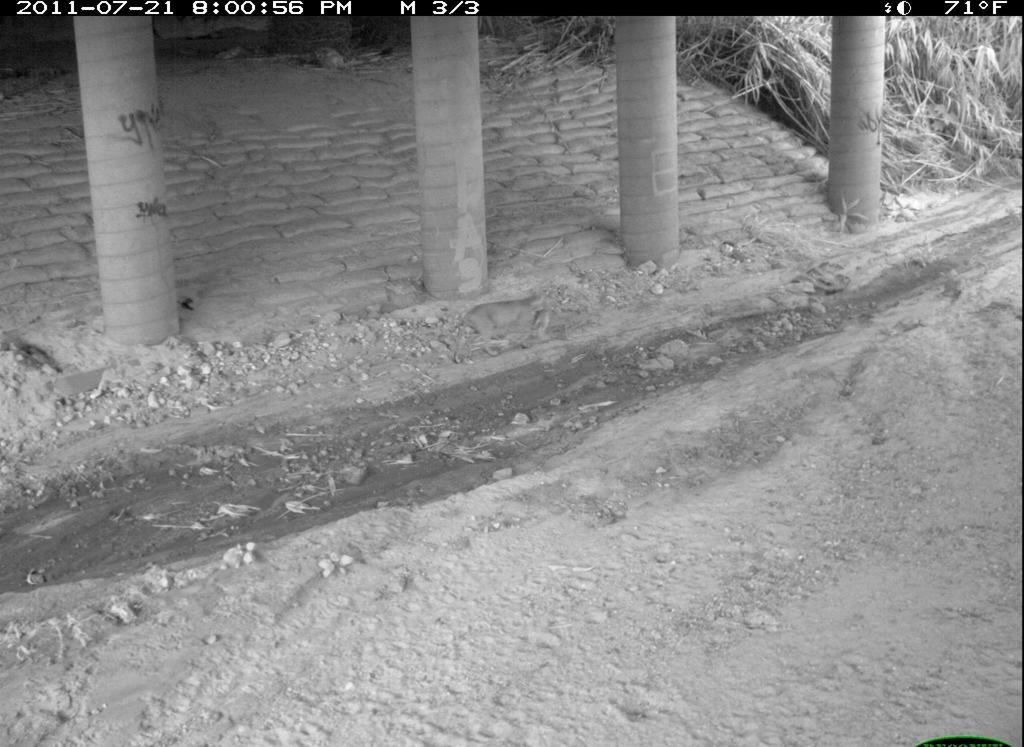bobcat: (894, 567, 1024, 739)
